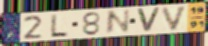2: (22, 15, 44, 41)
8: (81, 11, 102, 36)
L: (48, 14, 70, 38)
N: (104, 8, 132, 36)
V: (161, 5, 189, 32), (135, 7, 162, 33)
